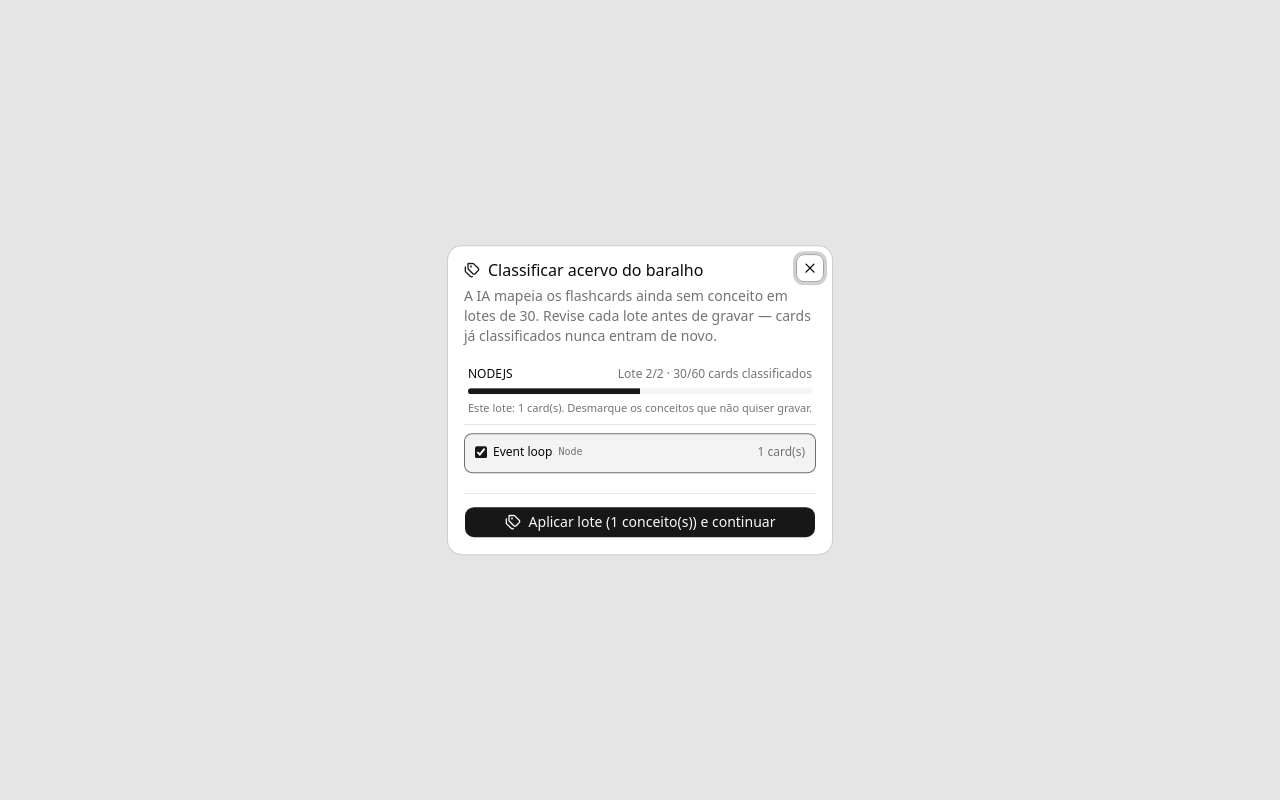
Test: ClassifyDeckModal › plans a chunk on open, applies it and advances to the next one
Expected: the text "Event loop" is shown, left=493, top=444, right=552, bottom=460
Expected: the text "Lote 2/2 · 30/60 cards classificados" is shown, left=618, top=366, right=812, bottom=382
Click the button "Aplicar lote (1 conceito(s)) e continuar".
click(640, 522)  # box left=464, top=506, right=816, bottom=538
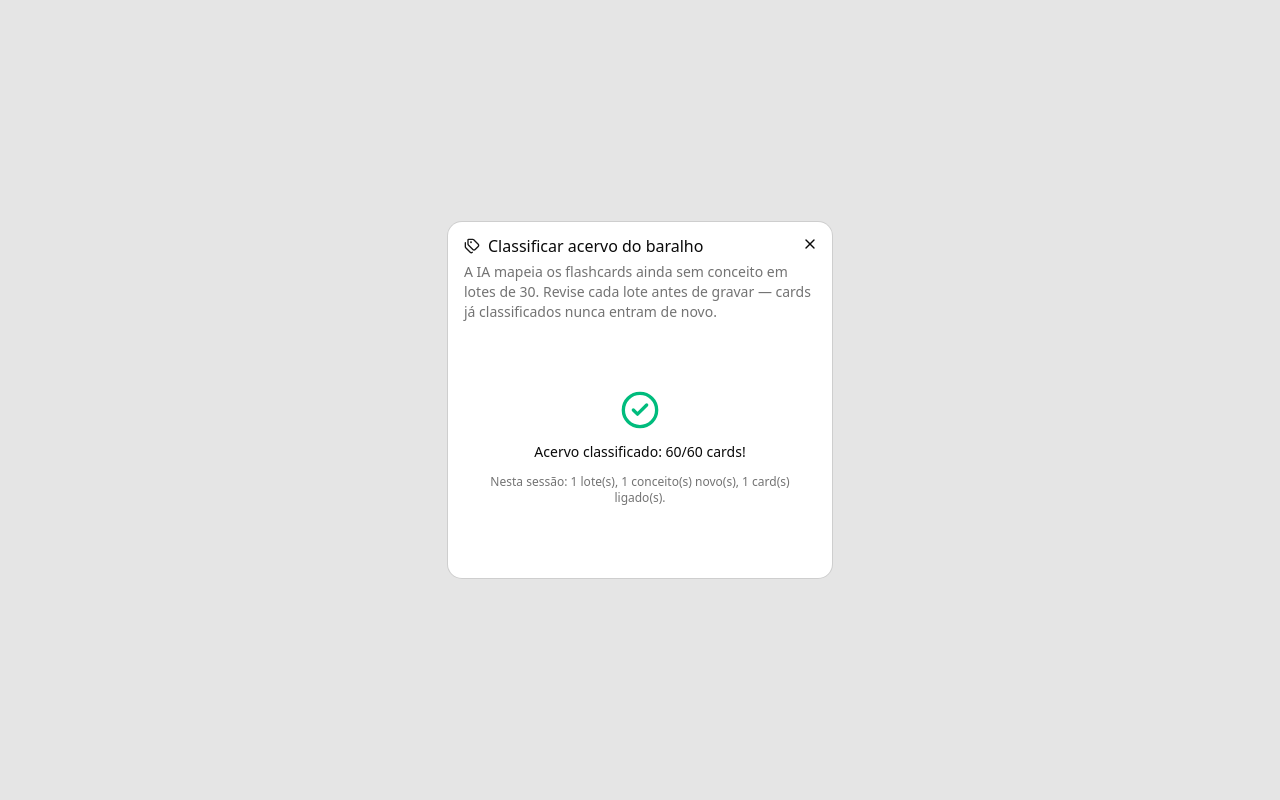
Expected: the text "Acervo classificado: 60/60 cards!" is shown, left=534, top=442, right=746, bottom=462
